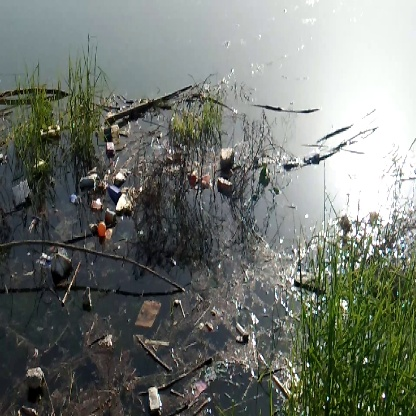branch: (1, 231, 190, 296)
